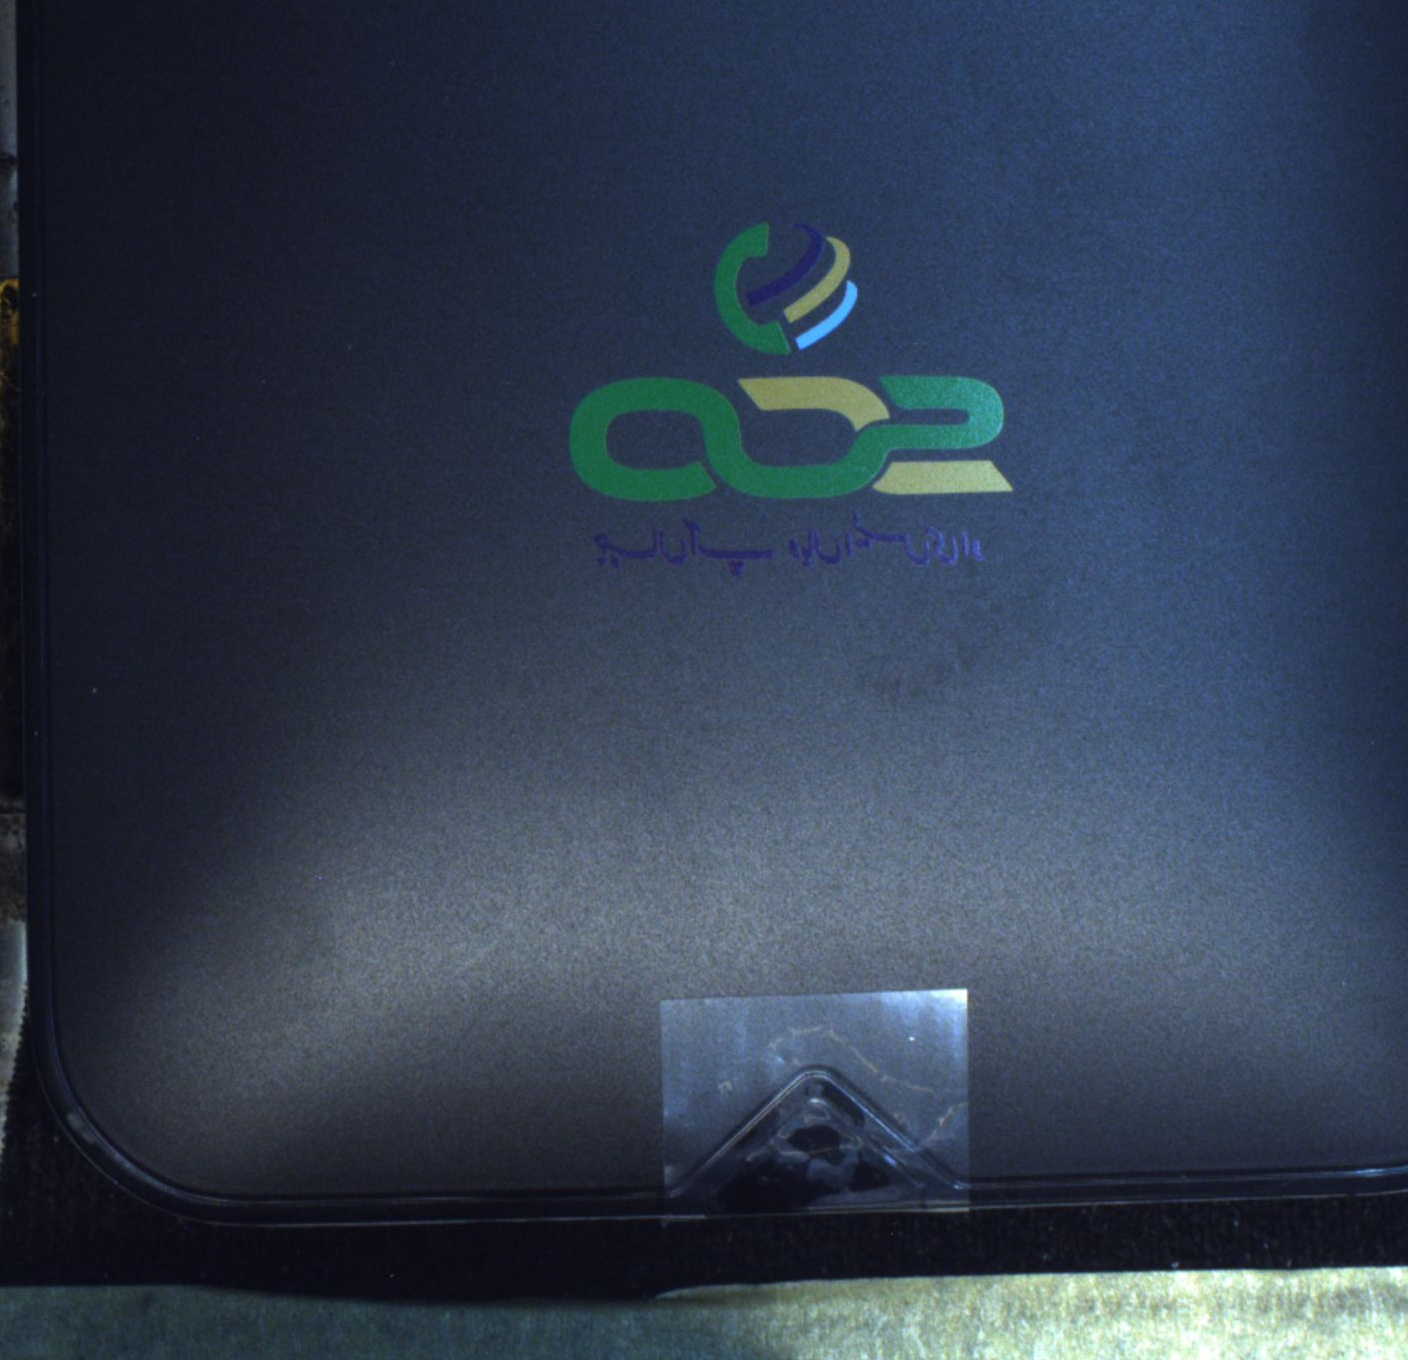BZ_HG680PSCOFirbeHome: (541, 176, 1051, 611)
